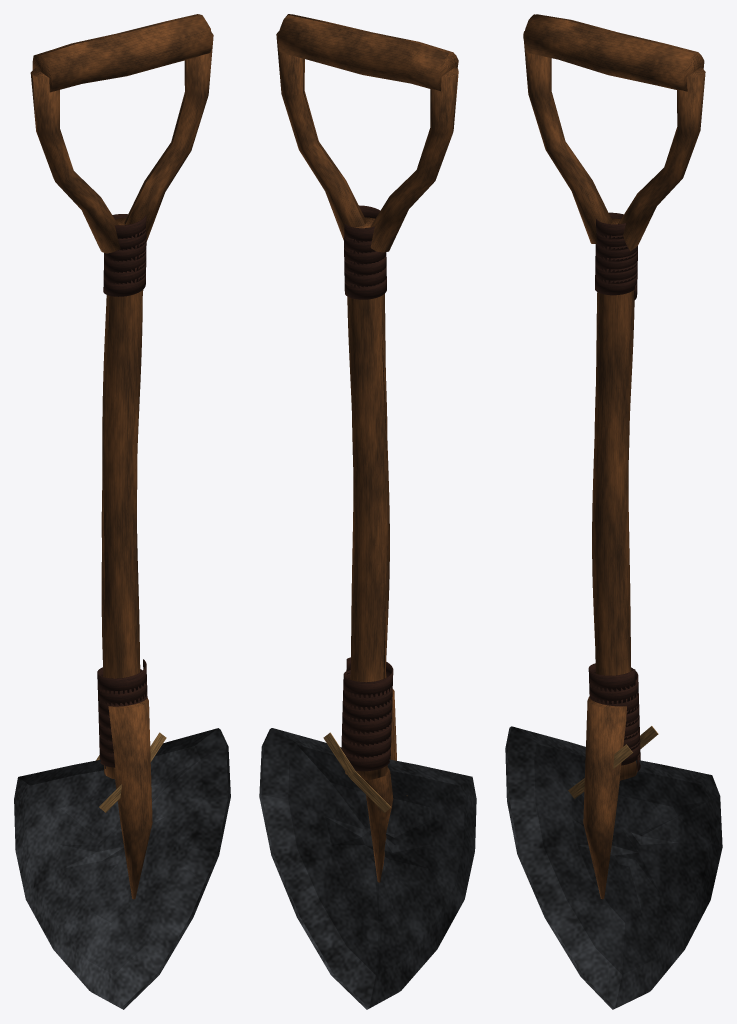
File: stone_shovel.glb
The picture shows the model from 3 angles, left to right: view 1: azimuth 30°, elevation 25°; view 2: azimuth 150°, elevation 25°; view 3: azimuth 330°, elevation 25°; orthographic projection.
Parts seen in each view (by area): view 1: stone_shovel_stone, stone_shovel_wood, stone_shovel_leather, stone_shovel_fiber; view 2: stone_shovel_stone, stone_shovel_wood, stone_shovel_leather, stone_shovel_fiber; view 3: stone_shovel_stone, stone_shovel_wood, stone_shovel_leather, stone_shovel_fiber.
Boxes of the visible parts, x1=… form: stone_shovel_stone: x1=14, y1=728, x2=230, y2=1009; stone_shovel_wood: x1=30, y1=14, x2=213, y2=899; stone_shovel_leather: x1=97, y1=214, x2=147, y2=767; stone_shovel_fiber: x1=96, y1=732, x2=166, y2=812; stone_shovel_stone: x1=259, y1=728, x2=476, y2=1009; stone_shovel_wood: x1=276, y1=14, x2=458, y2=882; stone_shovel_leather: x1=341, y1=205, x2=393, y2=771; stone_shovel_fiber: x1=323, y1=732, x2=407, y2=812; stone_shovel_stone: x1=505, y1=726, x2=722, y2=1009; stone_shovel_wood: x1=523, y1=14, x2=705, y2=899; stone_shovel_leather: x1=588, y1=212, x2=640, y2=771; stone_shovel_fiber: x1=568, y1=726, x2=658, y2=798.
Size of the model in its own units: 0.274 by 1.19 by 0.0844.
4 materials, 4 textured.
